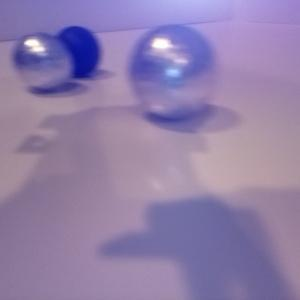alive_ball: (131, 25, 218, 120), (14, 33, 73, 90)
dead_ball: (54, 25, 101, 76)
